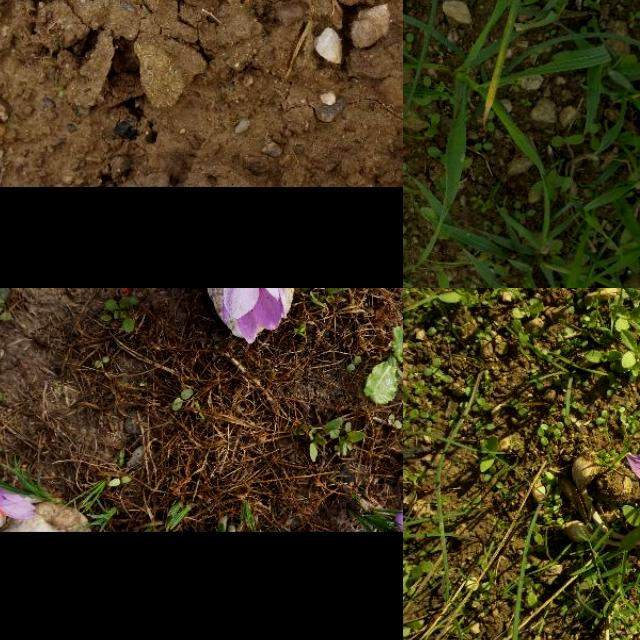flower: (221, 288, 285, 344), (0, 455, 43, 530)
